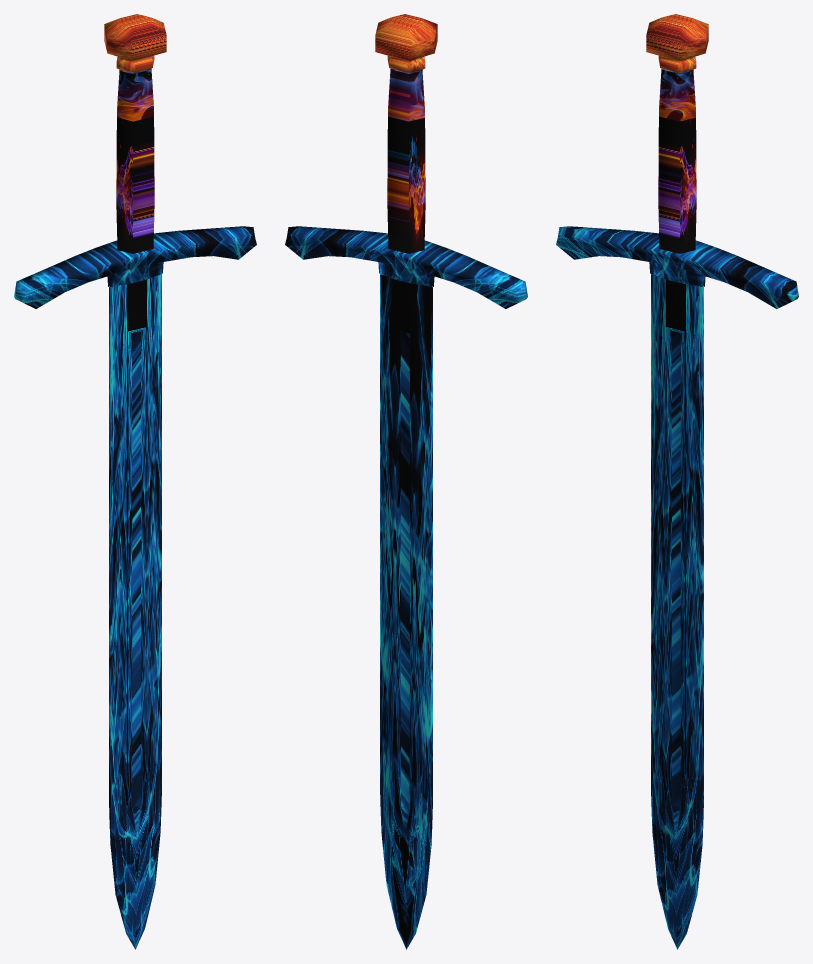
Rendered from espada3lars.obj.
3 views of the same model, side by side, from view 1: azimuth 30°, elevation 25°; view 2: azimuth 150°, elevation 25°; view 3: azimuth 330°, elevation 25° (orthographic).
Visible parts, largest first — view 1: polySurface6; view 2: polySurface6; view 3: polySurface6.
Part boxes in pixels (x1,y1,x2,y2): polySurface6: (14, 14, 256, 949); polySurface6: (285, 14, 527, 949); polySurface6: (556, 14, 798, 949).
Size of the model in its own units: 0.5996 by 2.21 by 0.1155.
